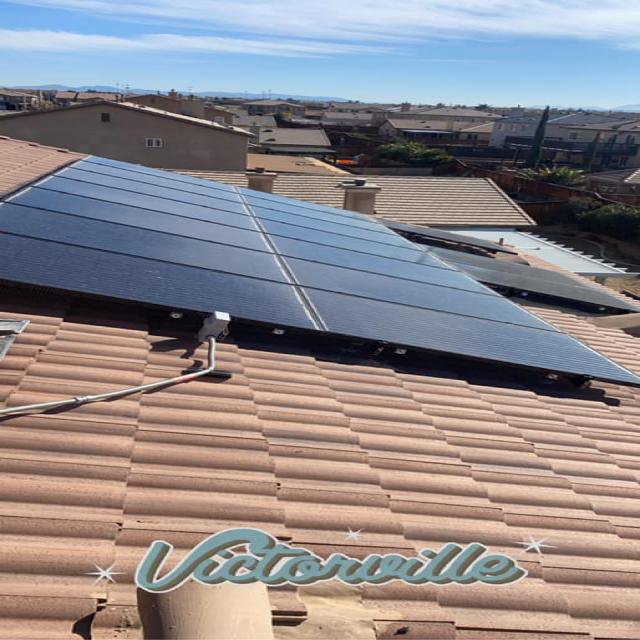dust-solar-panel: (0, 156, 633, 380)
